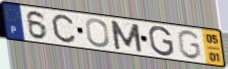6: (25, 10, 50, 41)
C: (51, 14, 78, 45)
G: (147, 25, 176, 58), (176, 29, 203, 61)
M: (109, 19, 145, 54)
O: (84, 17, 111, 48)
